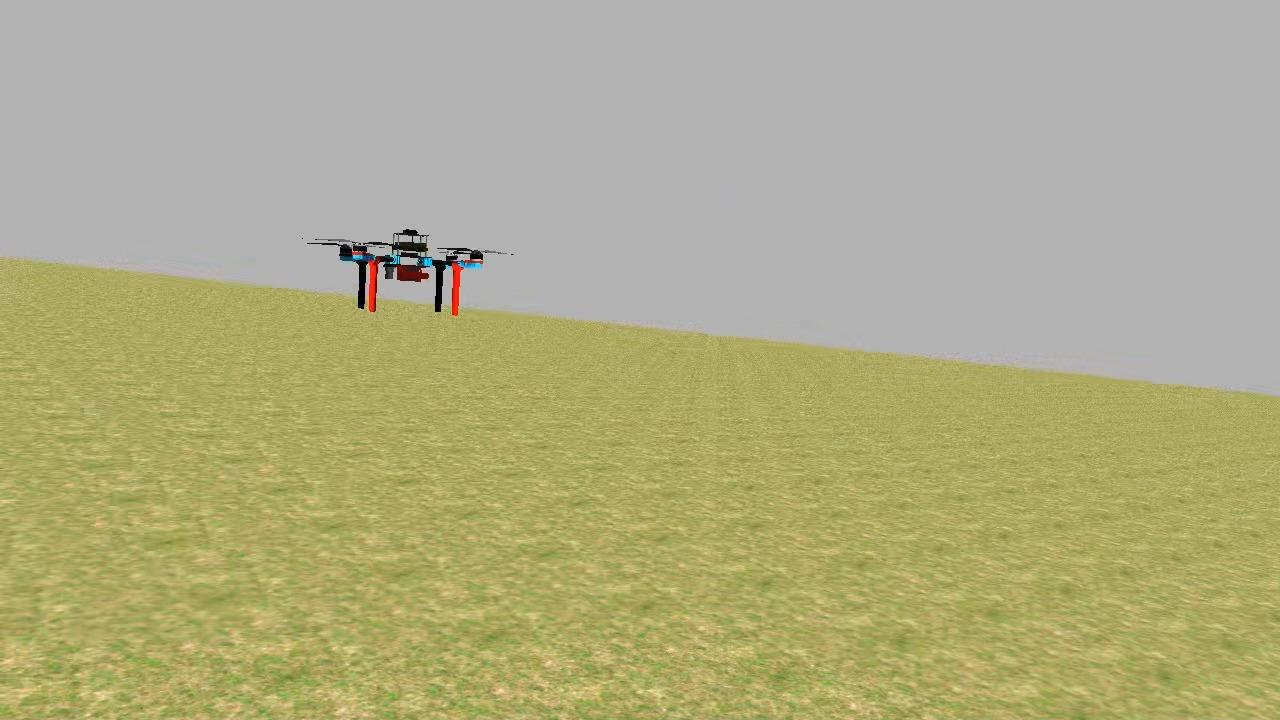UAV: (332, 219, 492, 324)
